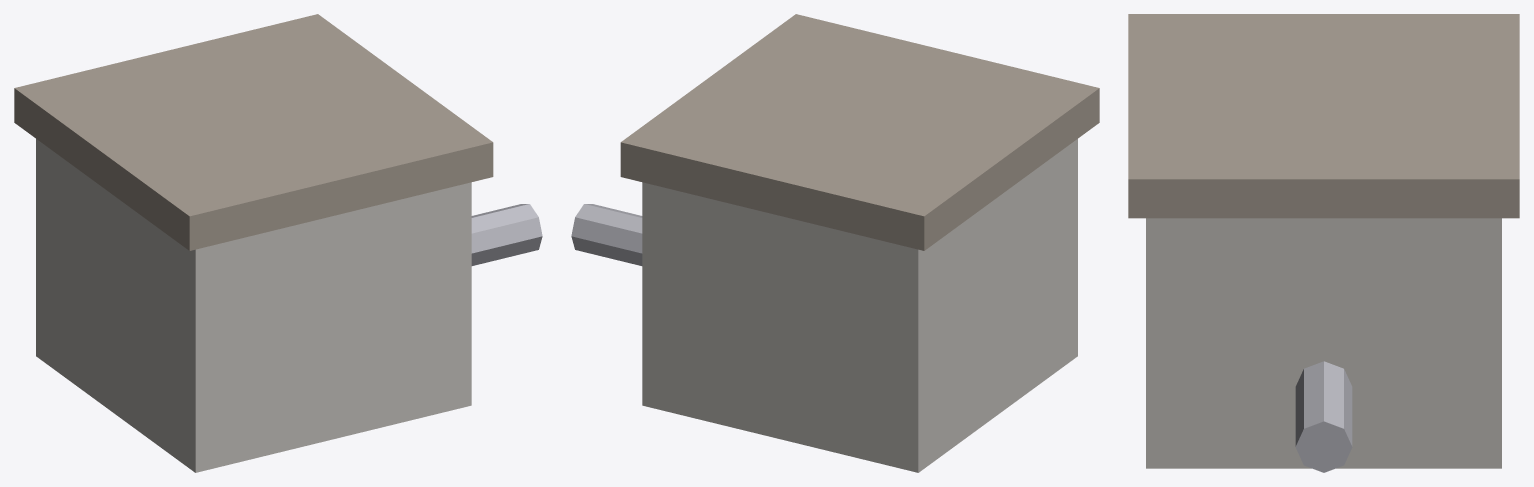
Rendered from water_source.glb.
3 renders of one model, left to right at view 1: azimuth 30°, elevation 25°; view 2: azimuth 150°, elevation 25°; view 3: azimuth 270°, elevation 25°, orthographic. The views are drawn at different scales.
Parts seen in each view (by area): view 1: WaterSource; view 2: WaterSource; view 3: WaterSource.
Boxes of the visible parts, x1,y1,x2,y2 form: WaterSource: (14, 14, 542, 472); WaterSource: (571, 14, 1099, 472); WaterSource: (1128, 14, 1519, 472).
Size of the model in its own units: 0.775 by 0.46 by 0.55.
